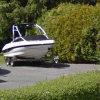Boat: (2, 19, 55, 80)
